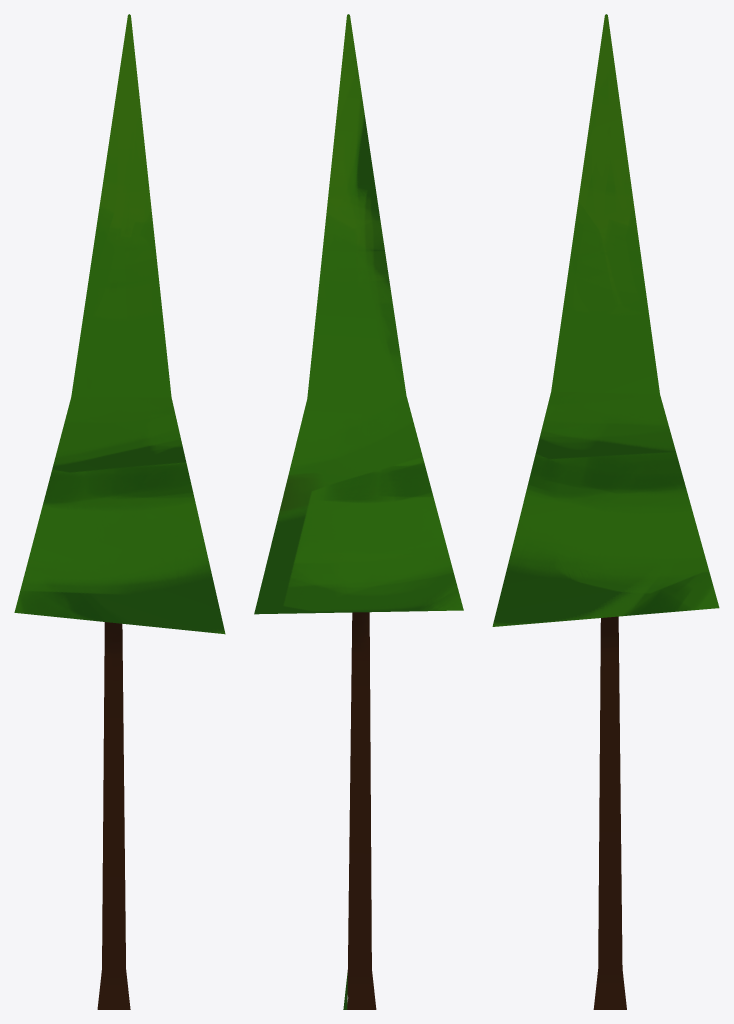
The model's file is sapin03_LOD.FBX.
The picture shows the model from 3 angles, left to right: view 1: azimuth 30°, elevation 25°; view 2: azimuth 150°, elevation 25°; view 3: azimuth 270°, elevation 25°; orthographic projection.
Visible parts, largest first — view 1: sapin03_LOD; view 2: sapin03_LOD; view 3: sapin03_LOD.
Boxes of the visible parts, box(x1,y1,x2,y2) form: sapin03_LOD: box(14, 14, 225, 1009); sapin03_LOD: box(254, 14, 463, 1009); sapin03_LOD: box(492, 14, 719, 1009).
Size of the model in its own units: 5.68 by 34.66 by 7.15.
